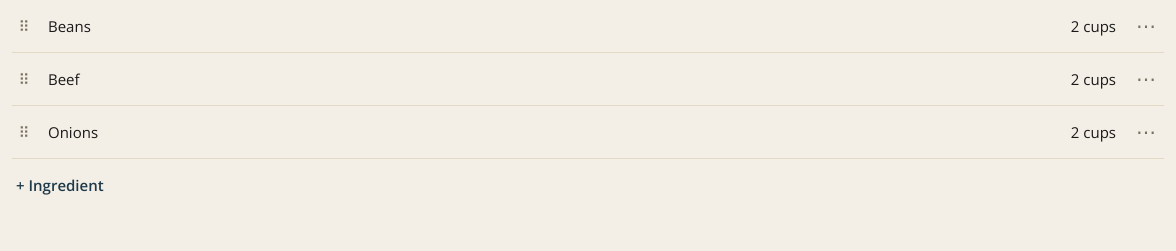
IngredientList author mode › Name_ShowsWhatYoudBuy
Click the button "Beans" at (69, 26), box [48, 15, 91, 37]
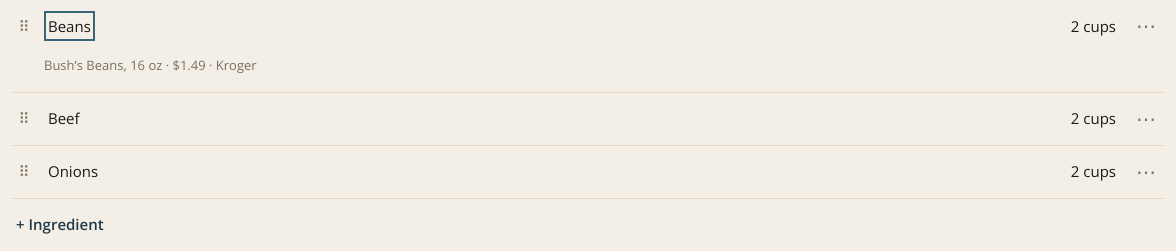
Now the list item "Beans" shows "Bush’s Beans, 16 oz · $1.49 · Kroger", box [44, 56, 257, 74]
